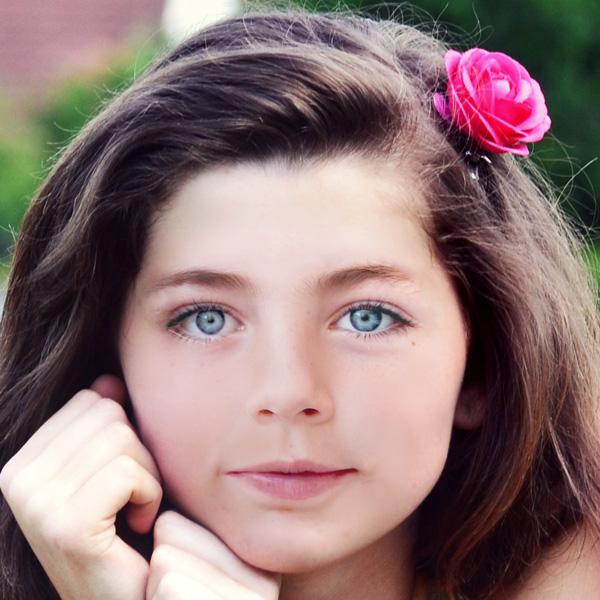Eyes: (322, 292, 428, 349), (161, 295, 251, 352)
